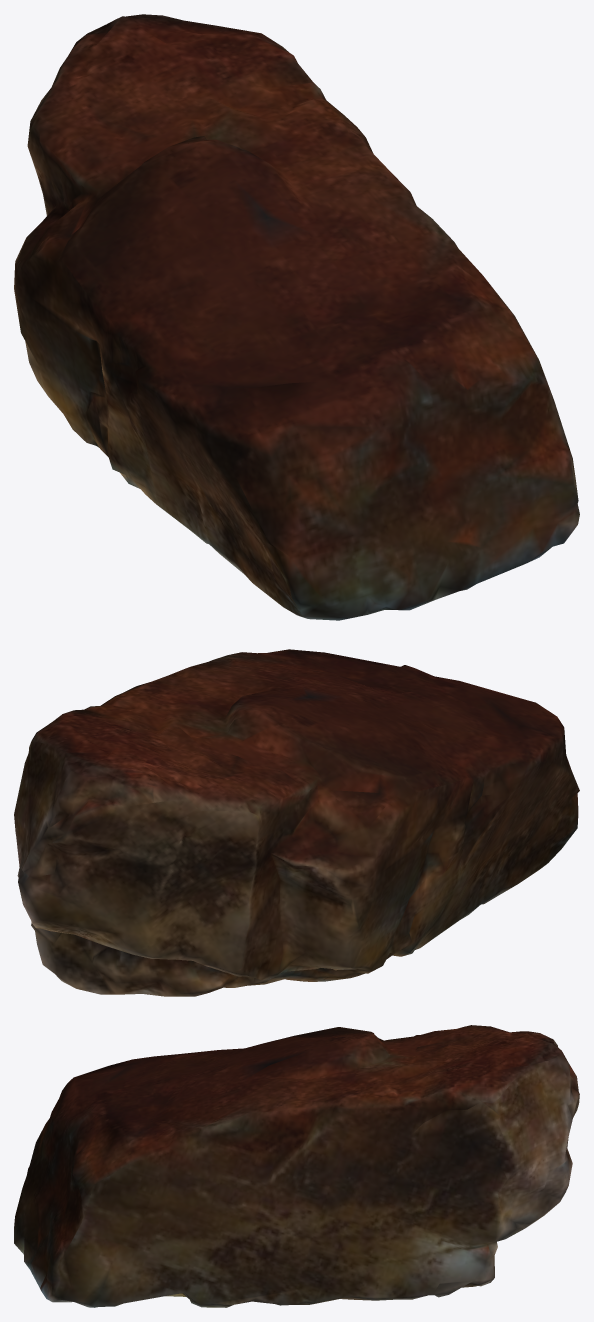
The model's file is rock_a.glb.
3 views of the same model, one above another, from view 1: azimuth 30°, elevation 25°; view 2: azimuth 150°, elevation 25°; view 3: azimuth 270°, elevation 25° (orthographic). The views are drawn at different scales.
Visible parts, largest first — view 1: rock_07; view 2: rock_07; view 3: rock_07.
Part boxes in pixels (x1=…): rock_07: x1=14, y1=14, x2=579, y2=620; rock_07: x1=14, y1=649, x2=579, y2=996; rock_07: x1=14, y1=1025, x2=579, y2=1307.
Size of the model in its own units: 0.1686 by 0.1434 by 0.3199.
1 material, 1 textured.
